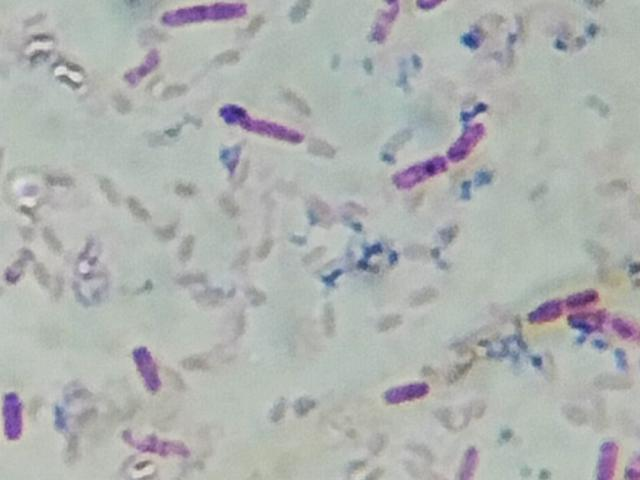E. coli: (225, 97, 311, 151), (155, 0, 259, 25), (357, 0, 404, 50), (394, 151, 449, 190), (133, 339, 166, 398), (572, 312, 638, 341), (382, 370, 430, 408), (122, 44, 161, 89), (451, 433, 487, 480), (448, 116, 487, 159), (2, 382, 28, 438), (615, 429, 640, 480), (593, 434, 618, 480), (529, 291, 558, 330), (563, 280, 600, 307)
